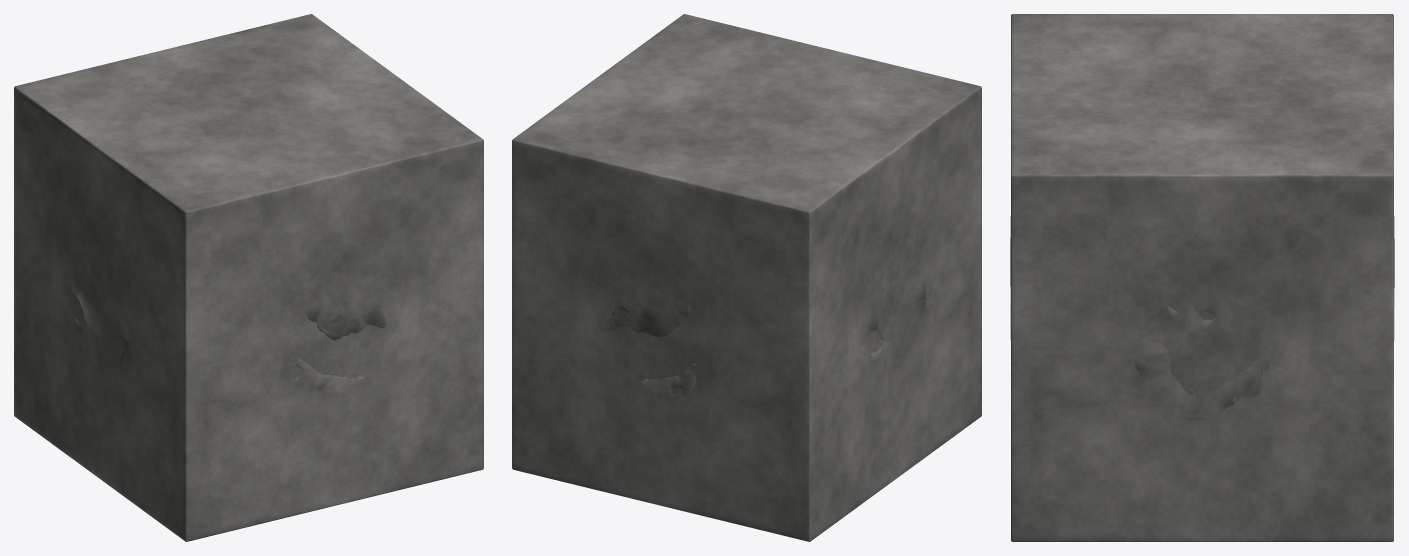
File: cube-stages.glb
3 renders of one model, left to right at view 1: azimuth 30°, elevation 25°; view 2: azimuth 150°, elevation 25°; view 3: azimuth 270°, elevation 25°, orthographic. The views are drawn at different scales.
Visible parts, largest first — view 1: cube_intact, cube_traces, cube_eroded; view 2: cube_intact, cube_traces, cube_eroded; view 3: cube_intact, cube_traces, cube_eroded.
Boxes of the visible parts, left/top/right/bottom form: cube_intact: left=14, top=14, right=483, bottom=541; cube_traces: left=70, top=256, right=388, bottom=396; cube_eroded: left=90, top=270, right=381, bottom=347; cube_intact: left=512, top=14, right=981, bottom=541; cube_traces: left=609, top=256, right=925, bottom=396; cube_eroded: left=611, top=281, right=891, bottom=323; cube_intact: left=1011, top=14, right=1393, bottom=541; cube_traces: left=1010, top=216, right=1394, bottom=415; cube_eroded: left=1010, top=218, right=1394, bottom=420.
Bounding box in the file's own units: 1.9 × 2 × 1.9.
2 materials, 1 textured.
